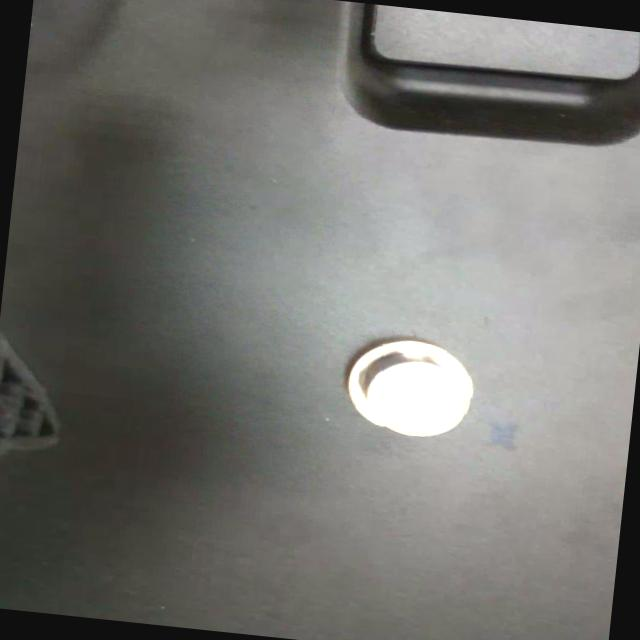sensor: (341, 334, 480, 444)
